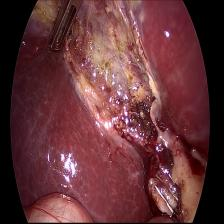Grasper: (44, 0, 80, 62)
